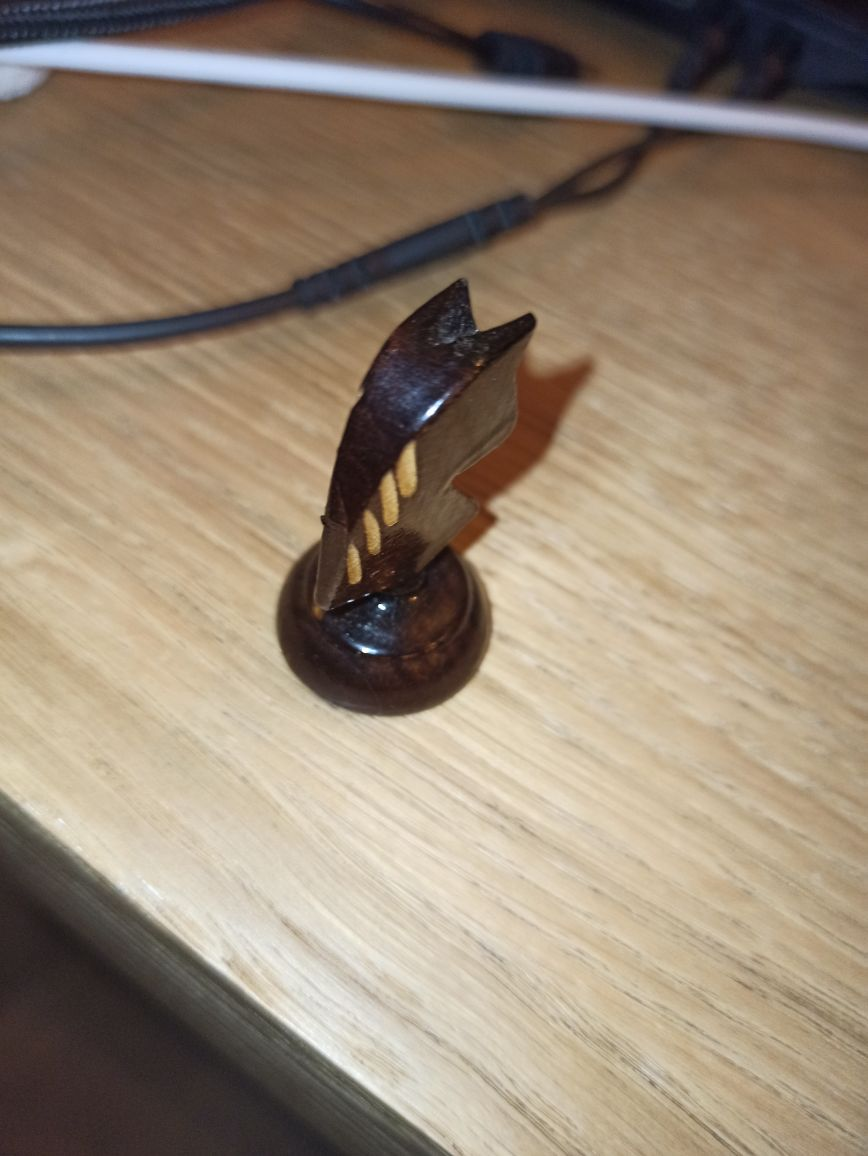bknight: (275, 272, 534, 720)
